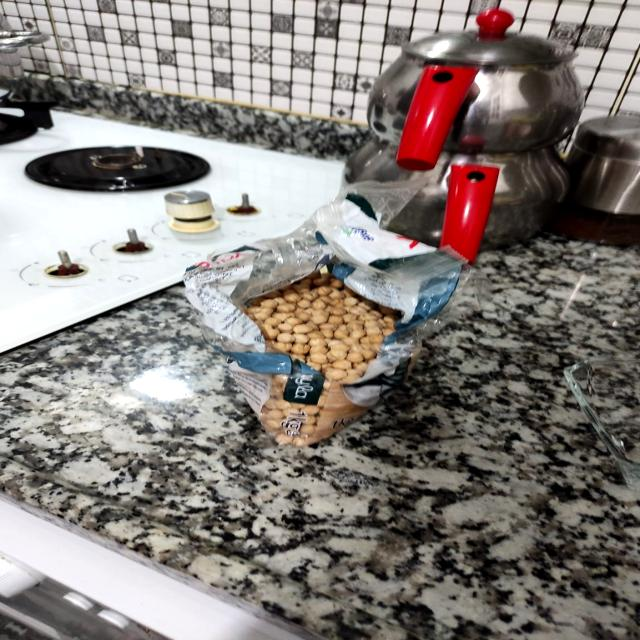chickpeas: (183, 241, 459, 448)
